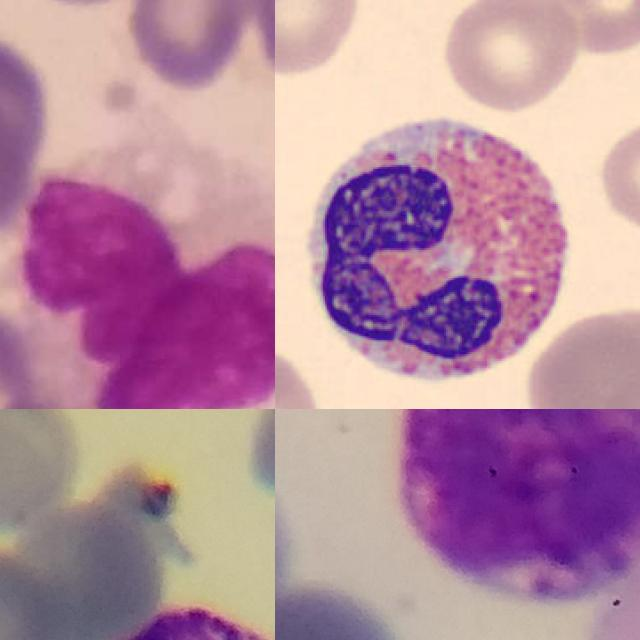Basophil: (397, 409, 640, 598)
Eosinophil: (293, 93, 585, 401)
Monocyte: (16, 152, 275, 409)
RBC: (437, 0, 584, 114), (522, 300, 640, 409), (275, 0, 366, 82), (540, 0, 640, 59), (593, 114, 640, 235)
